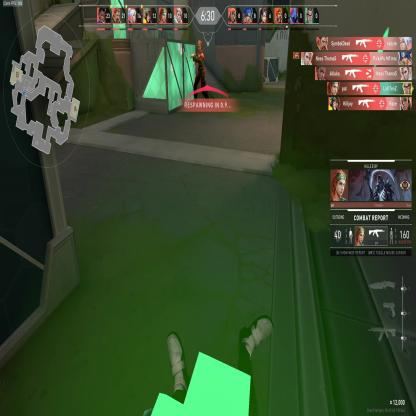enemy: (192, 39, 206, 86)
